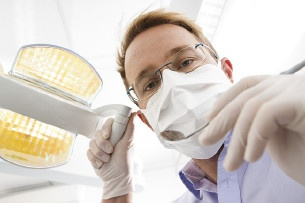Mask: (135, 46, 235, 147)
